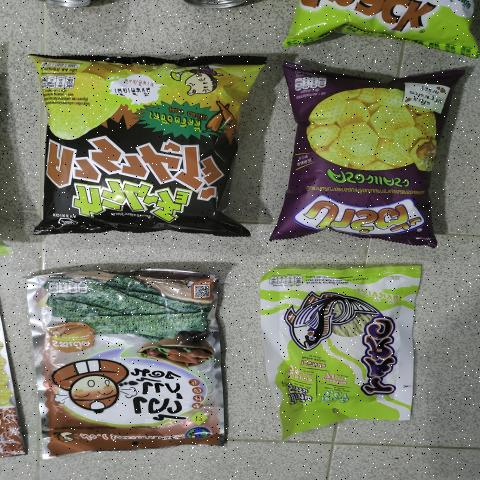karamujo: (43, 66, 250, 230)
party_purple: (279, 77, 456, 238)
taokaenoi: (38, 275, 215, 444)
taro_yellow: (267, 273, 411, 422)
